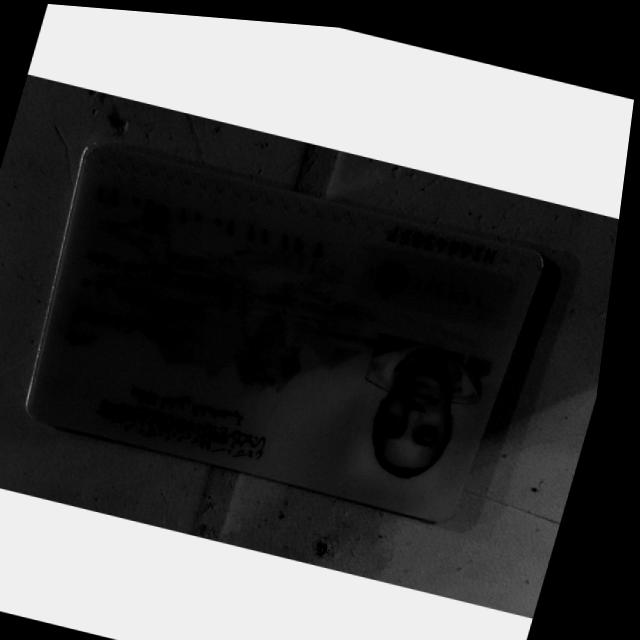id_card: (6, 123, 542, 535)
